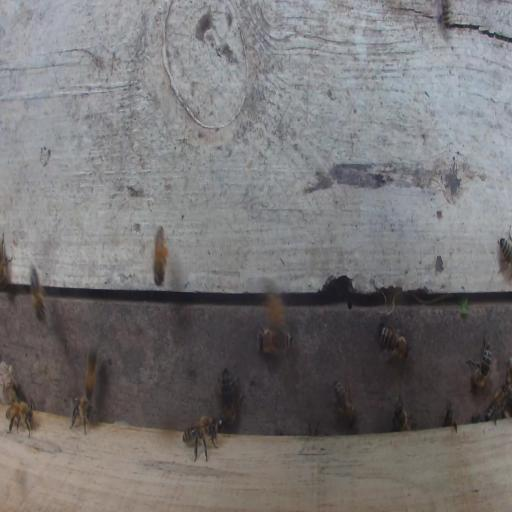bee: (182, 413, 219, 463), (464, 331, 492, 391), (218, 367, 245, 427), (377, 316, 410, 364), (331, 370, 357, 430), (257, 319, 293, 356), (5, 401, 38, 439), (483, 383, 511, 425), (69, 392, 93, 437), (29, 264, 47, 320), (390, 401, 419, 434), (153, 224, 168, 286), (0, 228, 14, 289), (497, 223, 511, 276), (432, 0, 454, 31), (84, 353, 97, 401), (442, 408, 458, 436)
